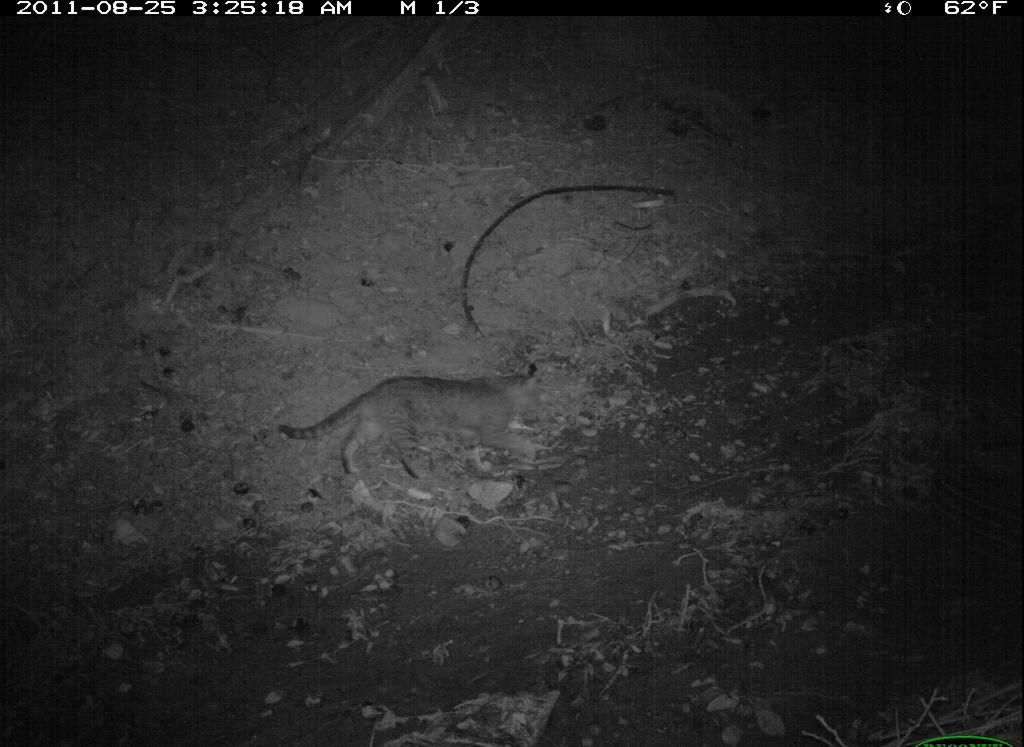cat: (276, 360, 565, 484)
